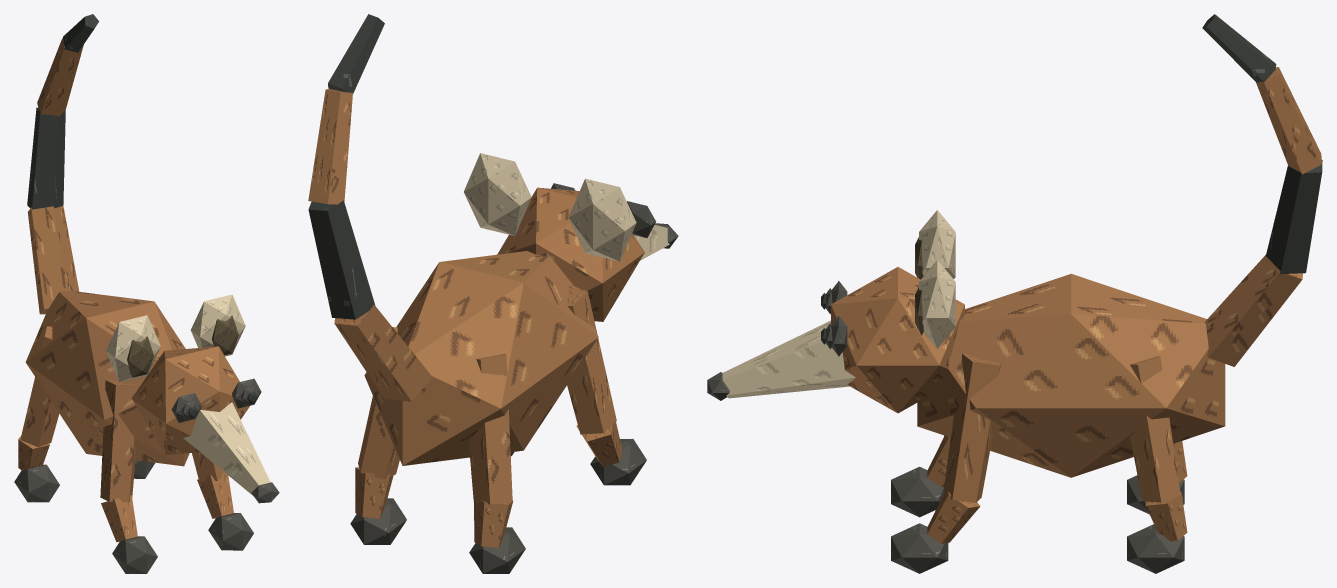
The model's file is animal-quati-v01.gltf.
The picture shows the model from 3 angles, left to right: view 1: azimuth 30°, elevation 25°; view 2: azimuth 150°, elevation 25°; view 3: azimuth 270°, elevation 25°; orthographic projection. The views are drawn at different scales.
Visible parts, largest first — view 1: cabeca, corpo, cauda, perna-frente-esquerda, perna-tras-esquerda, perna-frente-direita; view 2: corpo, cabeca, cauda, perna-tras-esquerda, perna-frente-esquerda, perna-tras-direita; view 3: corpo, cabeca, cauda, perna-frente-direita, perna-tras-direita, perna-frente-esquerda, perna-tras-esquerda.
Part boxes in pixels (x1,y1,x2,y2): cabeca: (106, 294, 279, 503); corpo: (25, 290, 189, 466); cauda: (27, 14, 98, 314); perna-frente-esquerda: (100, 379, 157, 573); perna-tras-esquerda: (14, 326, 59, 502); perna-frente-direita: (192, 452, 253, 550); corpo: (364, 251, 598, 465); cabeca: (464, 153, 678, 321); cauda: (308, 14, 431, 401); perna-tras-esquerda: (468, 353, 525, 573); perna-frente-esquerda: (567, 285, 646, 485); perna-tras-direita: (350, 327, 406, 544); corpo: (917, 273, 1225, 477); cabeca: (707, 210, 964, 413); cauda: (1202, 14, 1322, 366); perna-frente-direita: (891, 353, 1001, 573); perna-tras-direita: (1127, 356, 1187, 573); perna-frente-esquerda: (891, 435, 950, 517); perna-tras-esquerda: (1127, 441, 1187, 514).
Size of the model in its own units: 0.4616 by 1.52 by 1.56.
Materials: 1 (1 with a texture image).
